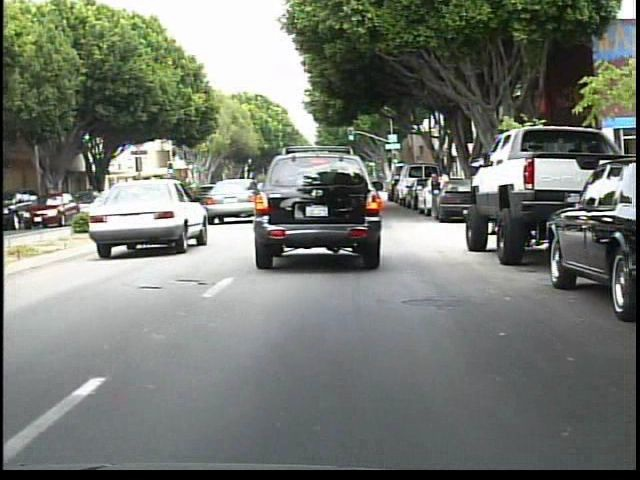person: (435, 166, 453, 214), (427, 174, 444, 222)
